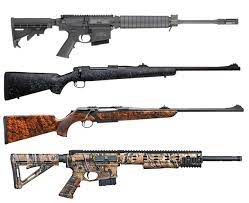gun: (4, 148, 244, 199), (9, 13, 240, 59), (3, 104, 244, 145), (4, 62, 241, 102)
